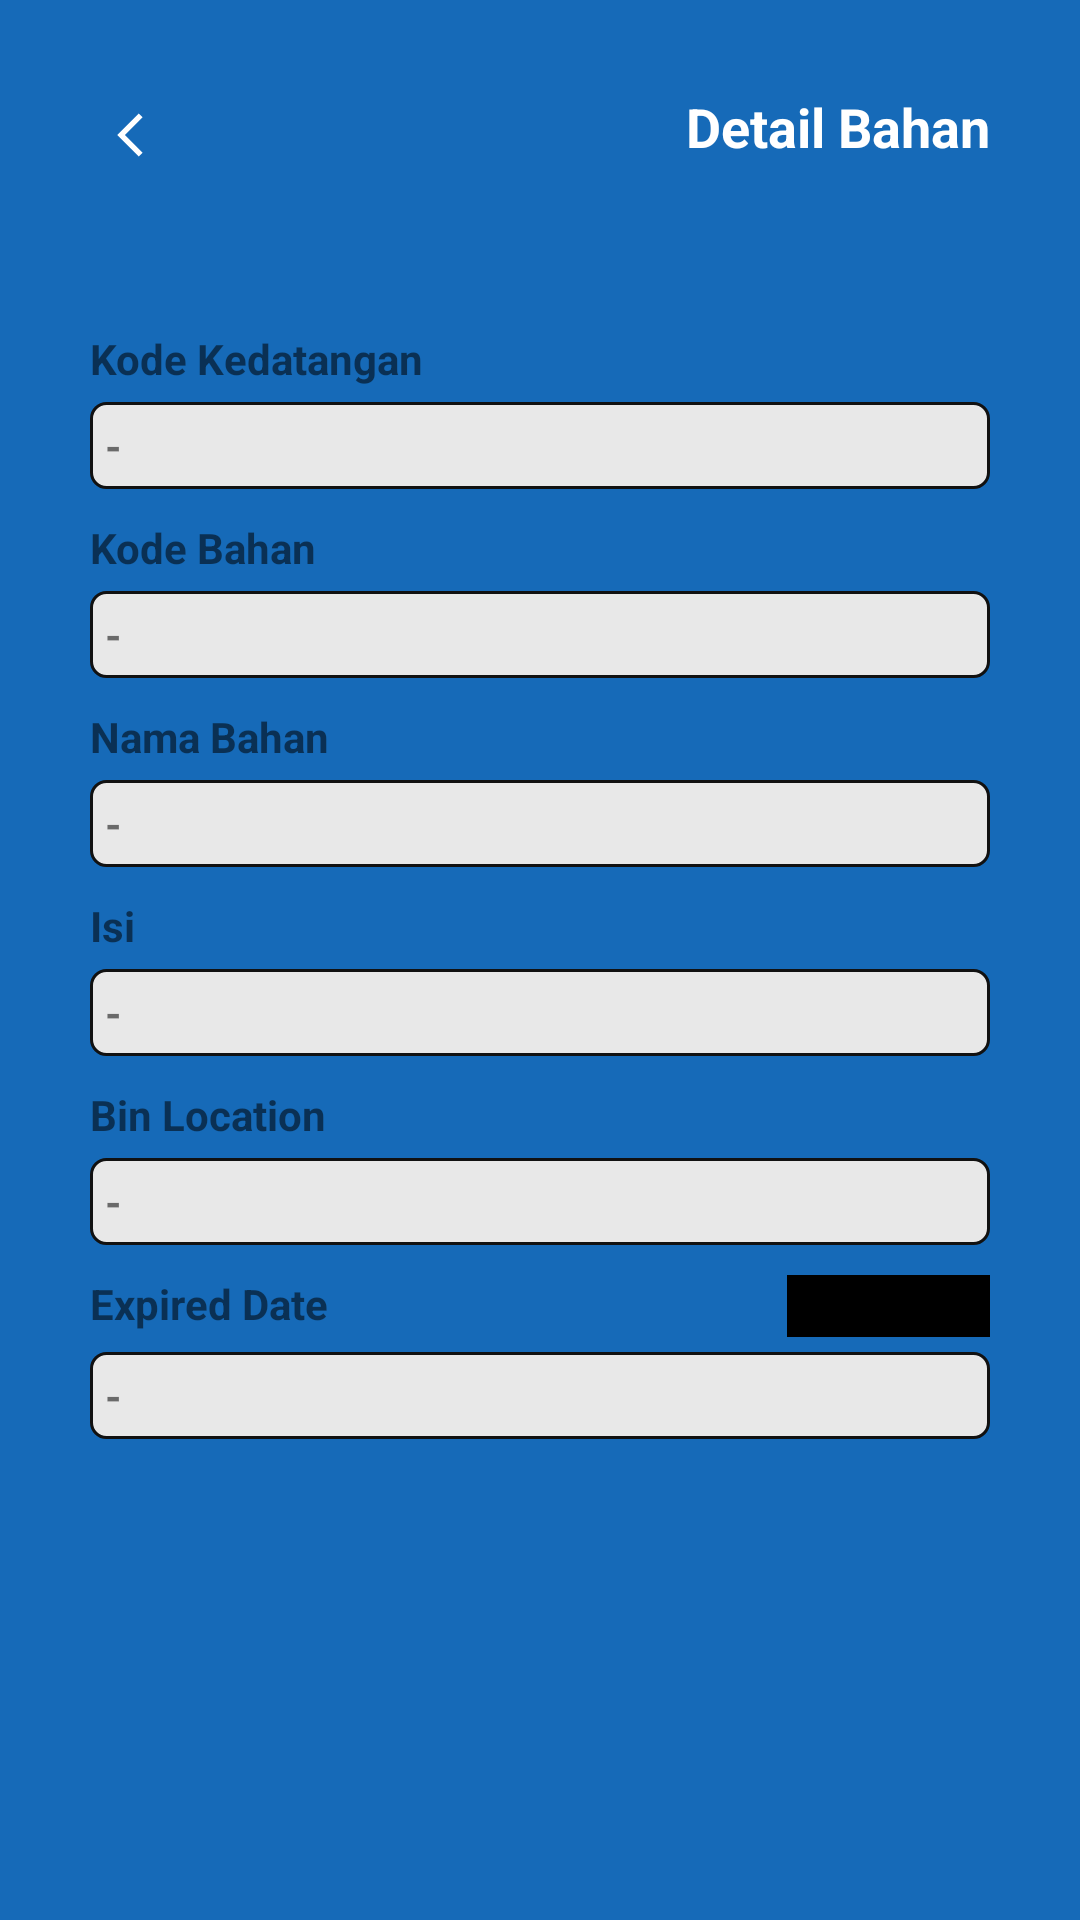

Named icons in this screenshot (1080 x 1920) and their centers, [x,y]:
back: [130,135]
